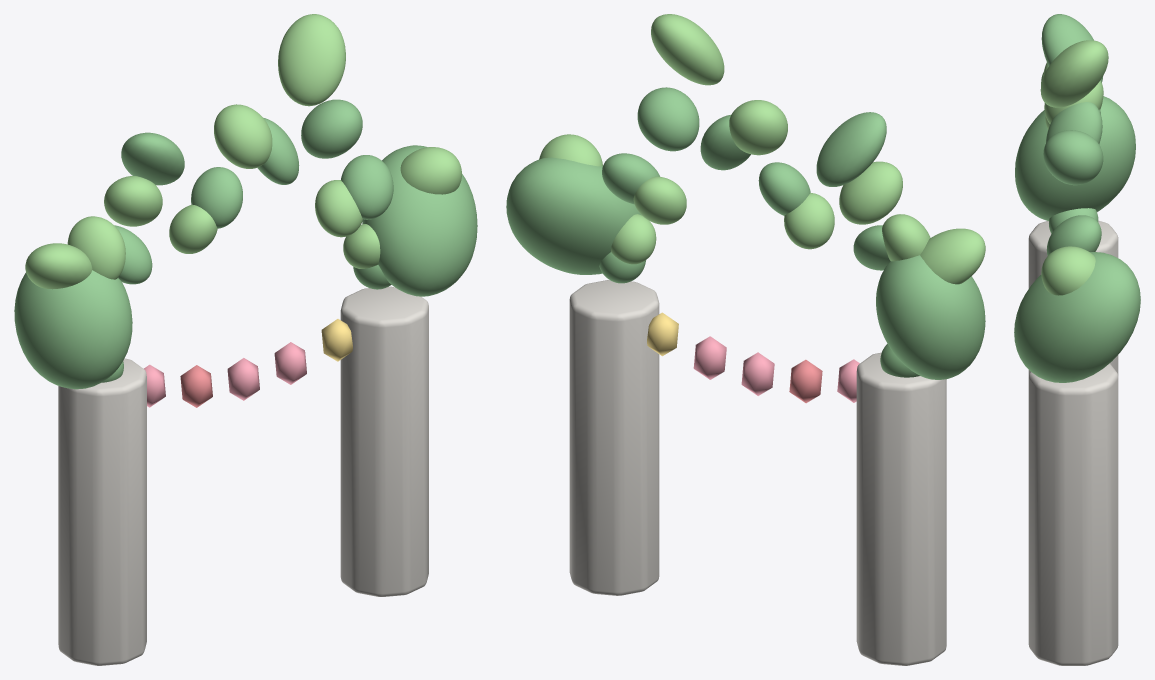
File: lantern_gate.glb
3 renders of one model, left to right at view 1: azimuth 30°, elevation 25°; view 2: azimuth 150°, elevation 25°; view 3: azimuth 270°, elevation 25°, orthographic.
Parts seen in each view (by area): view 1: lantern_gate; view 2: lantern_gate; view 3: lantern_gate.
Part boxes in pixels (x1,y1,x2,y2): lantern_gate: (14,14,477,665); lantern_gate: (506,14,985,665); lantern_gate: (1014,14,1140,665).
Bounding box in the file's own units: 5.1 × 6.21 × 1.24.
